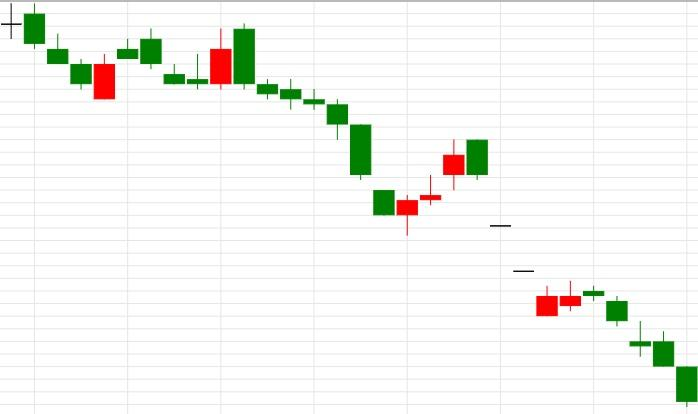bullish_engulfing_rise: (0, 0, 116, 99)
